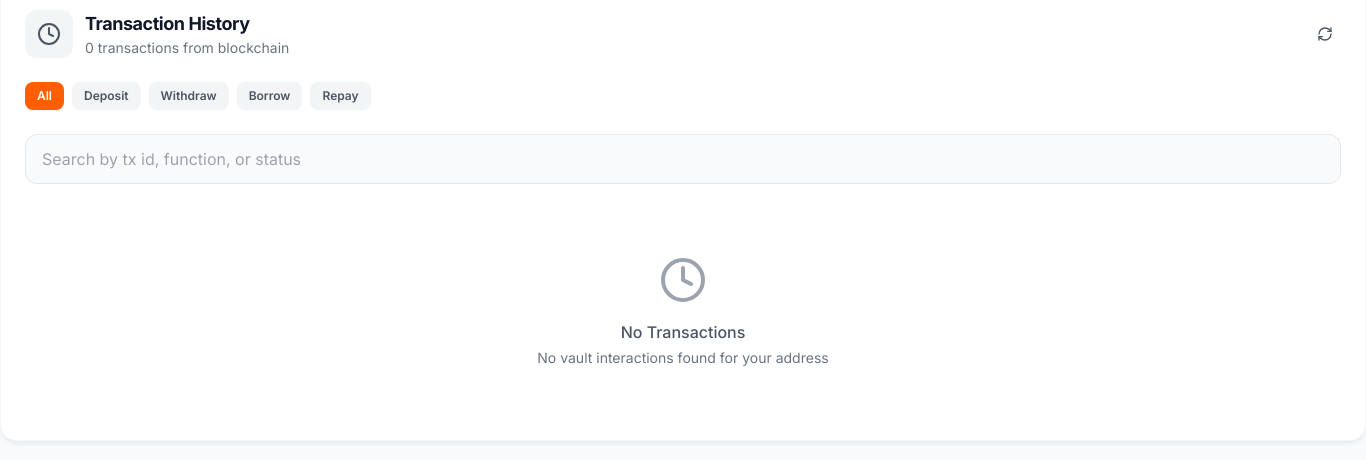
Test: TransactionHistory Component › shows filtered empty state message
Expected: the text "No Transactions" is shown, [621, 322, 745, 342]
Click the button "deposit" at [106, 96], box [72, 82, 140, 110]
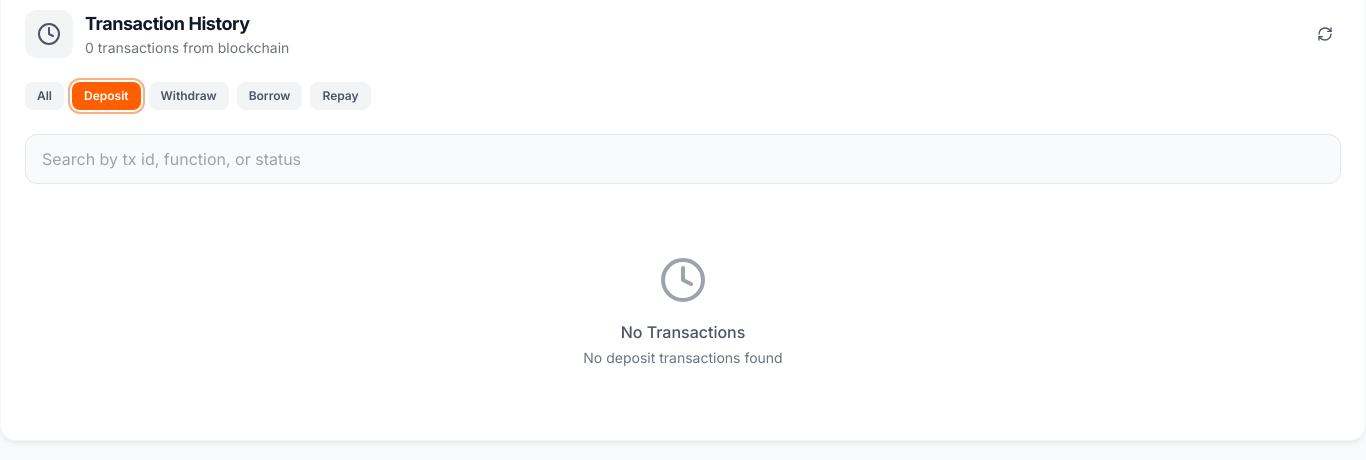
Now the text "No deposit transactions found" is shown, box [583, 349, 783, 366]
